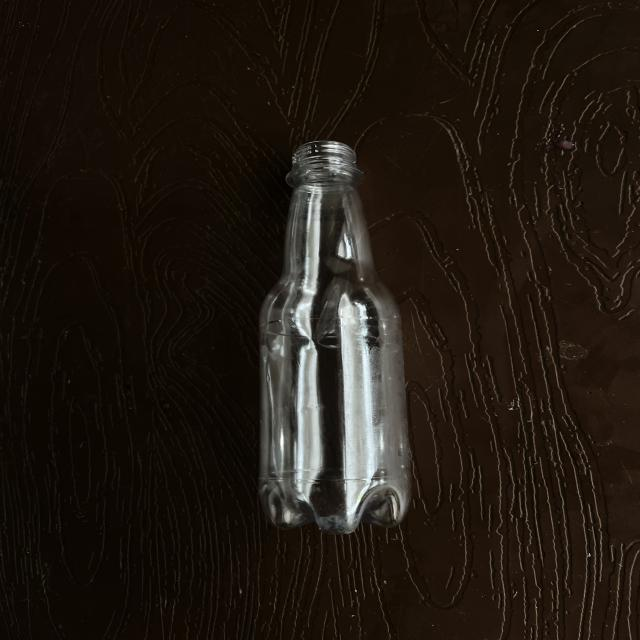PET_ClearBottle: (249, 135, 429, 634)
